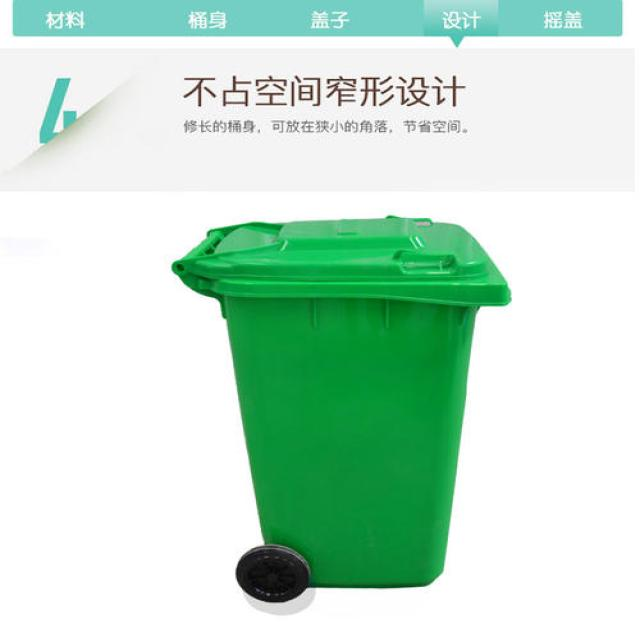garbage_bin: (170, 215, 510, 588)
